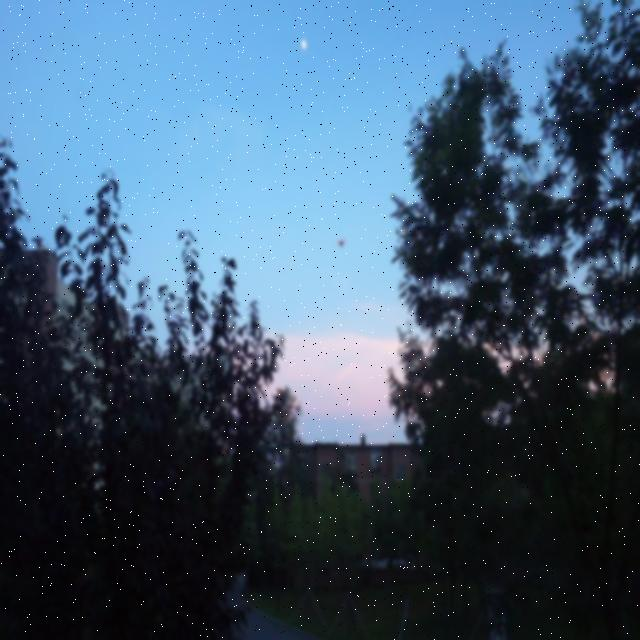UAV: (336, 238, 346, 250)
